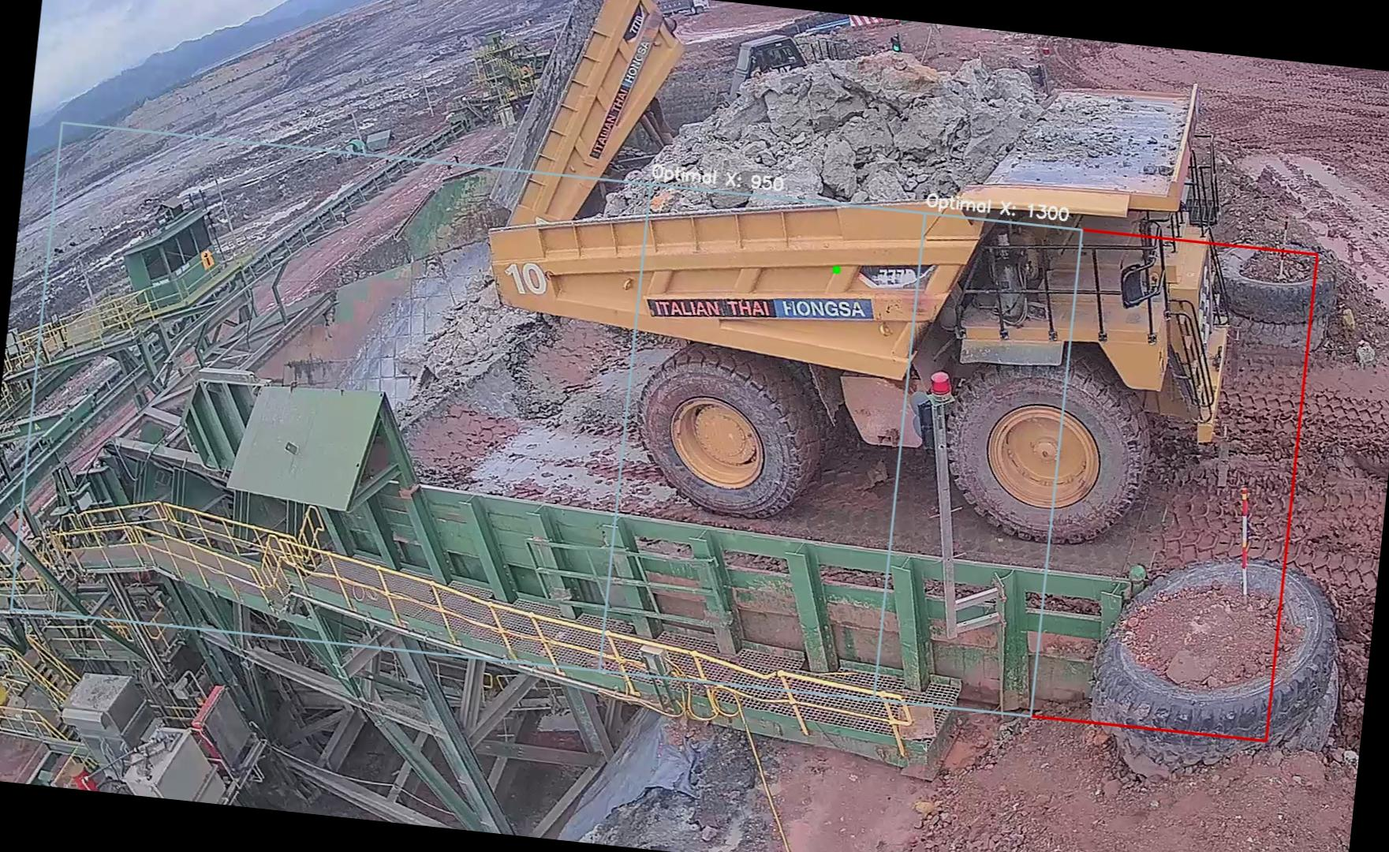company: (633, 268, 885, 349)
full_load: (648, 25, 1029, 244)
mining_truck: (446, 0, 1279, 577)
tail_number: (497, 250, 559, 303)
truck_size: (851, 254, 931, 293)
